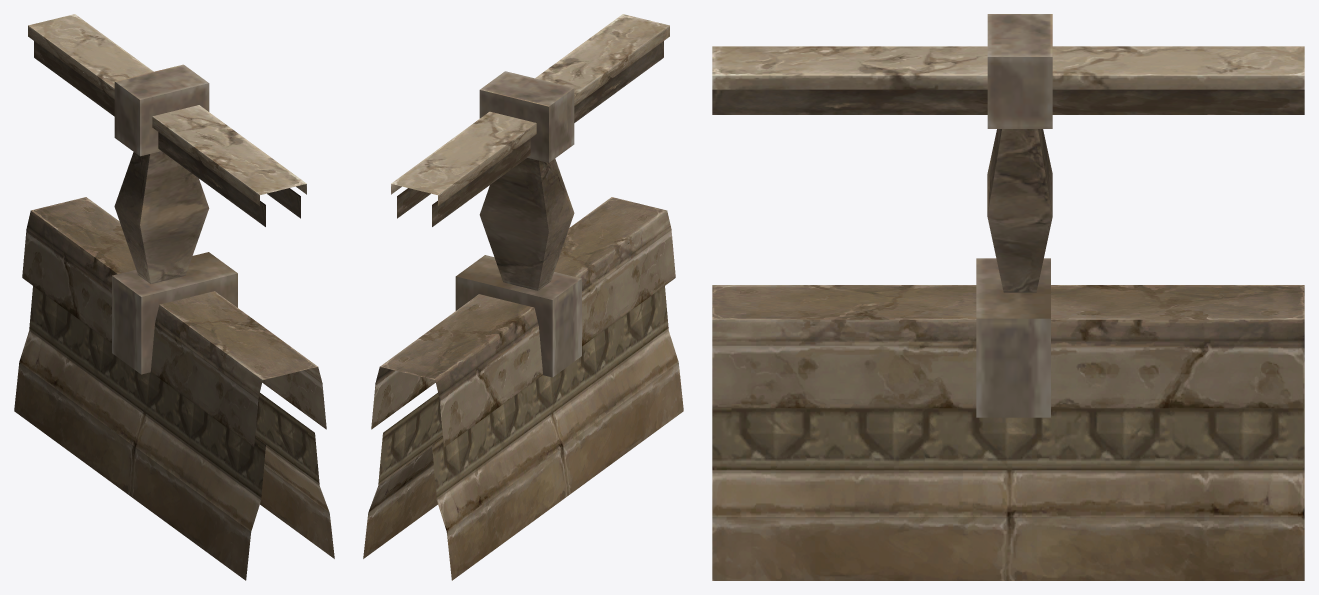
The model's file is blsd4_hulan.FBX.
The picture shows the model from 3 angles, left to right: view 1: azimuth 30°, elevation 25°; view 2: azimuth 150°, elevation 25°; view 3: azimuth 270°, elevation 25°; orthographic projection. The views are drawn at different scales.
Visible parts, largest first — view 1: blsd4_hulan_001; view 2: blsd4_hulan_001; view 3: blsd4_hulan_001.
Part boxes in pixels (x1,y1,x2,y2): blsd4_hulan_001: (14, 14, 334, 580); blsd4_hulan_001: (363, 14, 683, 580); blsd4_hulan_001: (712, 14, 1304, 580).
Bounding box in the file's own units: 39.57 × 157 × 164.
